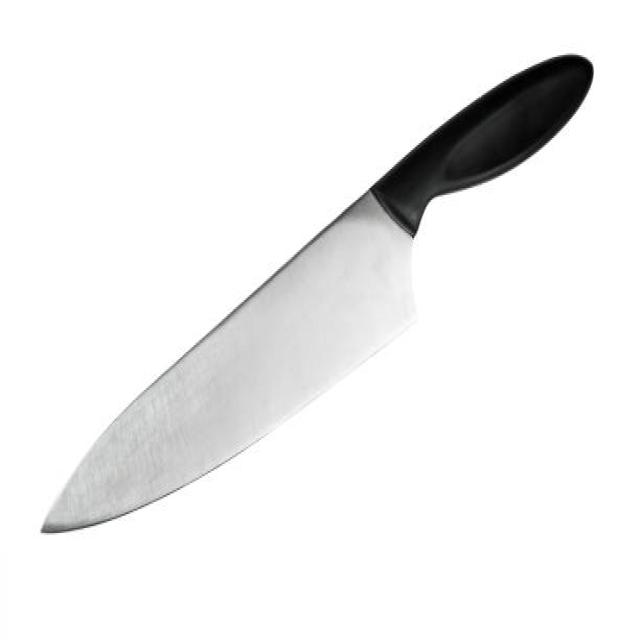knife: (30, 43, 605, 562)
